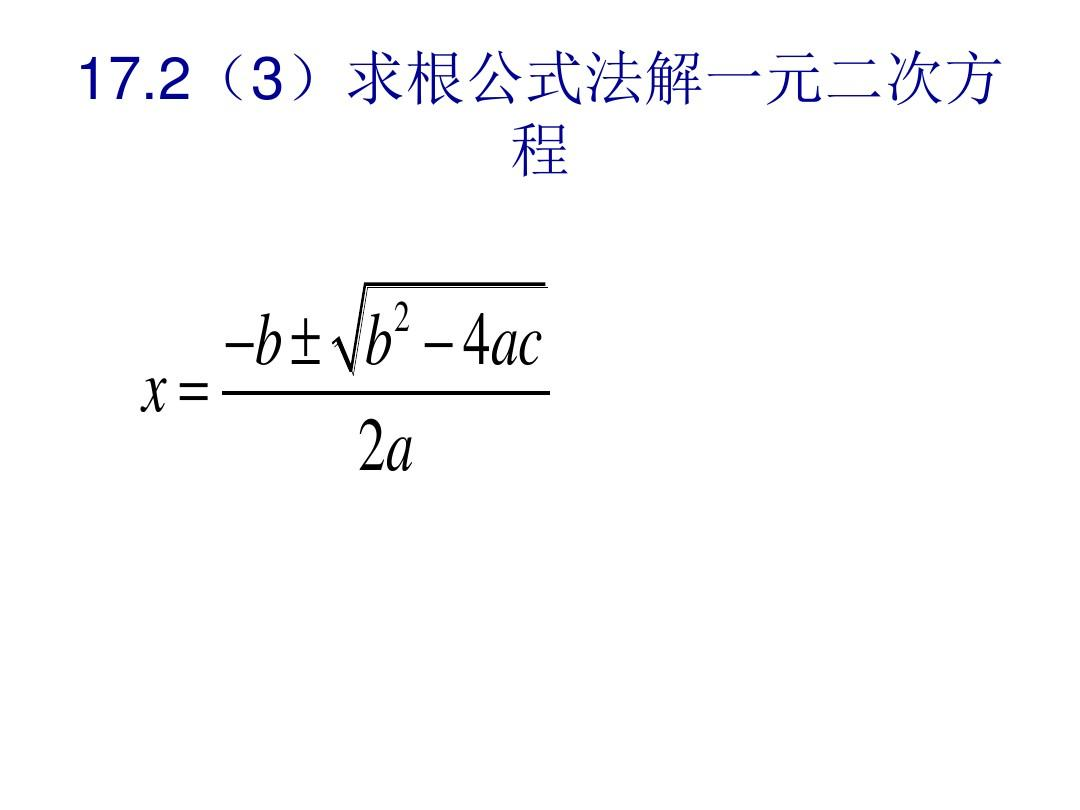division: (220, 384, 558, 406)
sqrt: (334, 276, 551, 380)
square: (389, 300, 414, 334)
